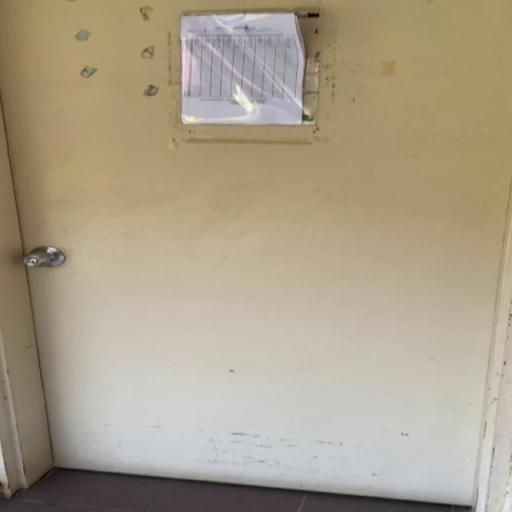door: (1, 0, 510, 510)
